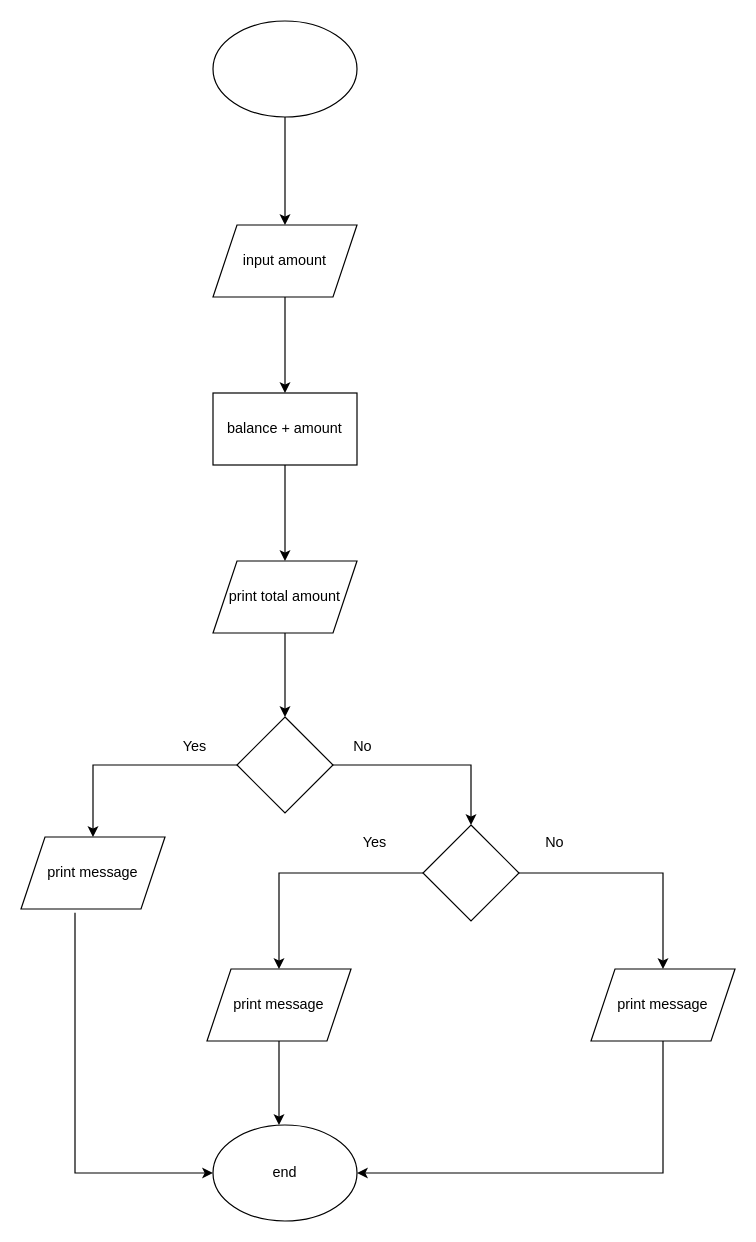
This 756x1242 diagram has some shape labels left out. The shapes that lost their labels are listed below. From the top down, each one's box as (x1, y1, x2, y2) in pixels, then its label:
(212, 20, 357, 117): reload balance
(236, 716, 333, 813): if amount >50
(422, 824, 519, 921): if amount <=50
